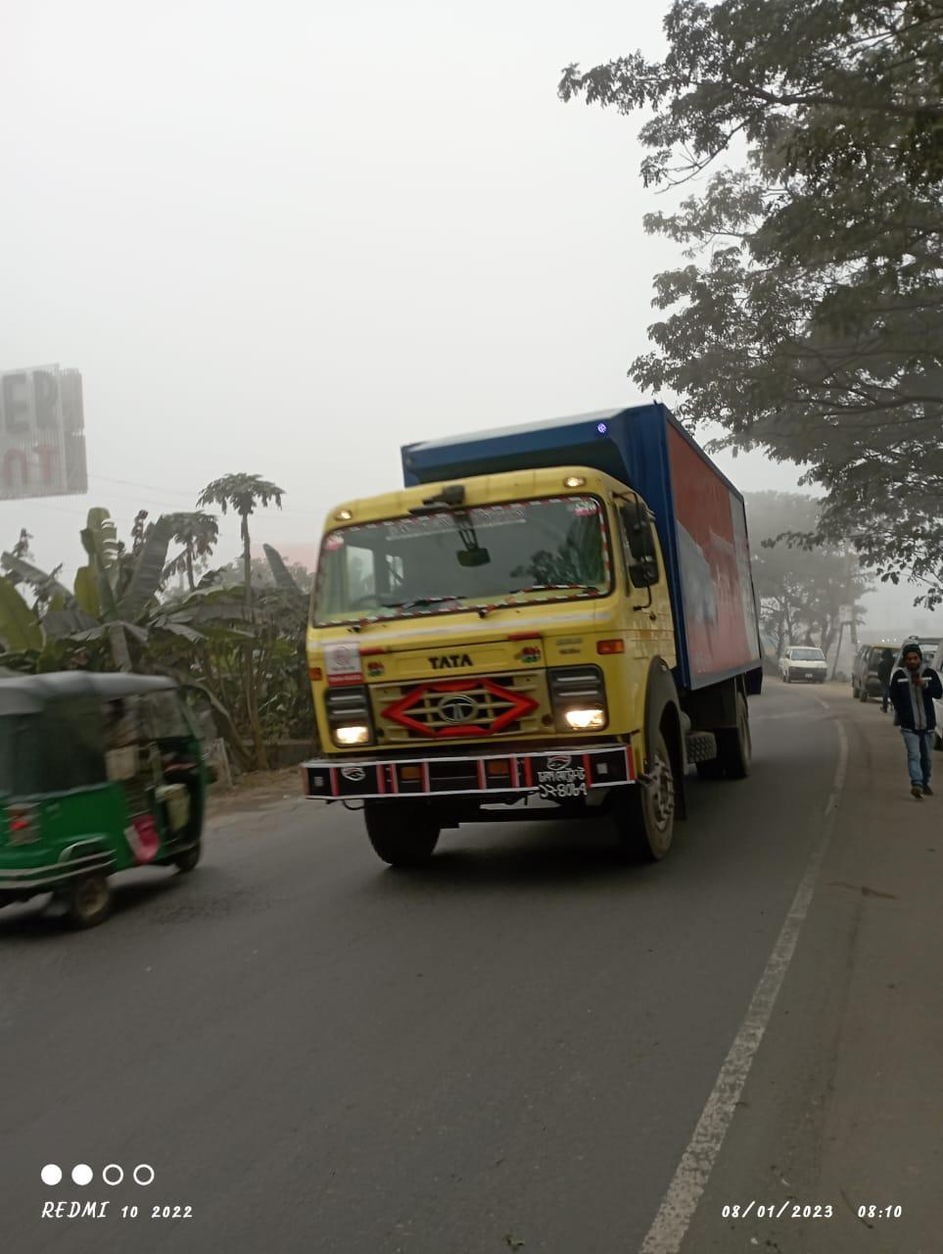Car: (770, 632, 844, 694), (848, 640, 902, 708)
Truck: (284, 401, 774, 854)
